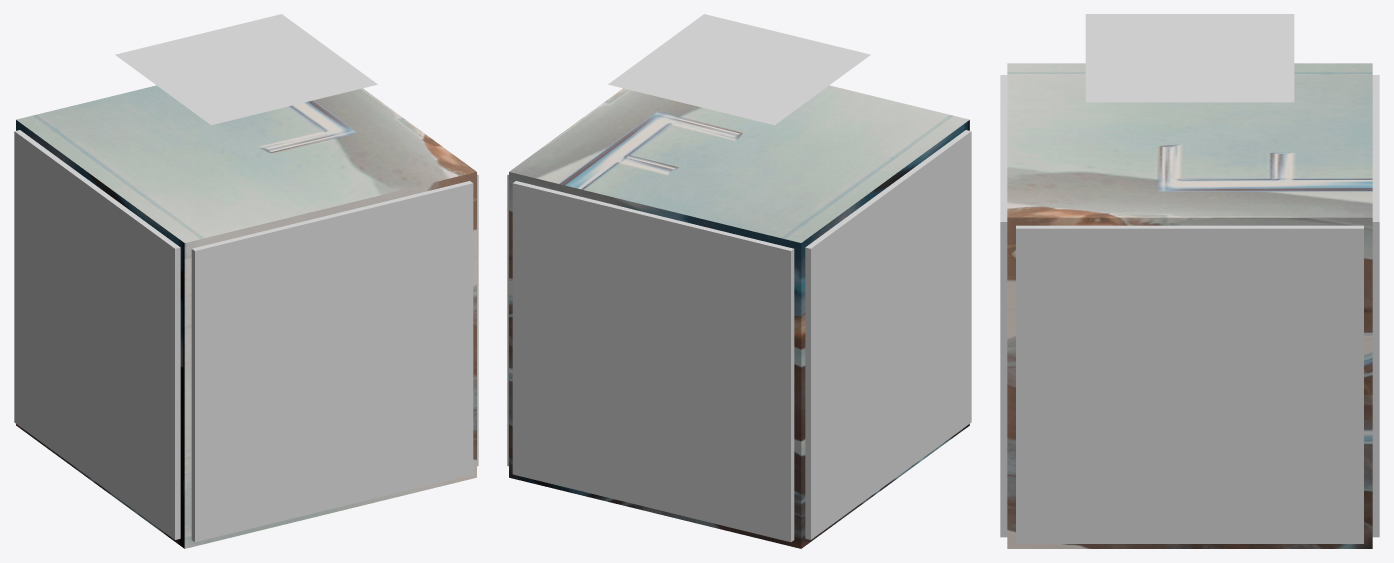
3 renders of one model, left to right at view 1: azimuth 30°, elevation 25°; view 2: azimuth 150°, elevation 25°; view 3: azimuth 270°, elevation 25°, orthographic. The views are drawn at different scales.
Parts seen in each view (by area): view 1: sideD, centralCube, sideC, Plane, sideA; view 2: sideB, centralCube, sideC, Plane, sideA; view 3: sideA, centralCube, Plane, sideB, sideD.
Boxes of the visible parts, x1,y1,x2,y2 form: sideD: (191,181,473,542); centralCube: (16,85,476,548); sideC: (14,130,180,539); Plane: (115,14,377,125); sideA: (477,174,478,466); sideB: (512,181,794,542); centralCube: (509,85,969,548); sideC: (805,130,971,539); Plane: (608,14,870,125); sideA: (507,174,508,466); sideA: (1016,225,1363,543); centralCube: (1007,63,1372,548); Plane: (1085,14,1294,102); sideB: (1372,75,1379,537); sideD: (1000,75,1007,537).
Bounding box in the file's own units: 2.18 × 2.62 × 2.18.
Materials: 5 (1 with a texture image).
